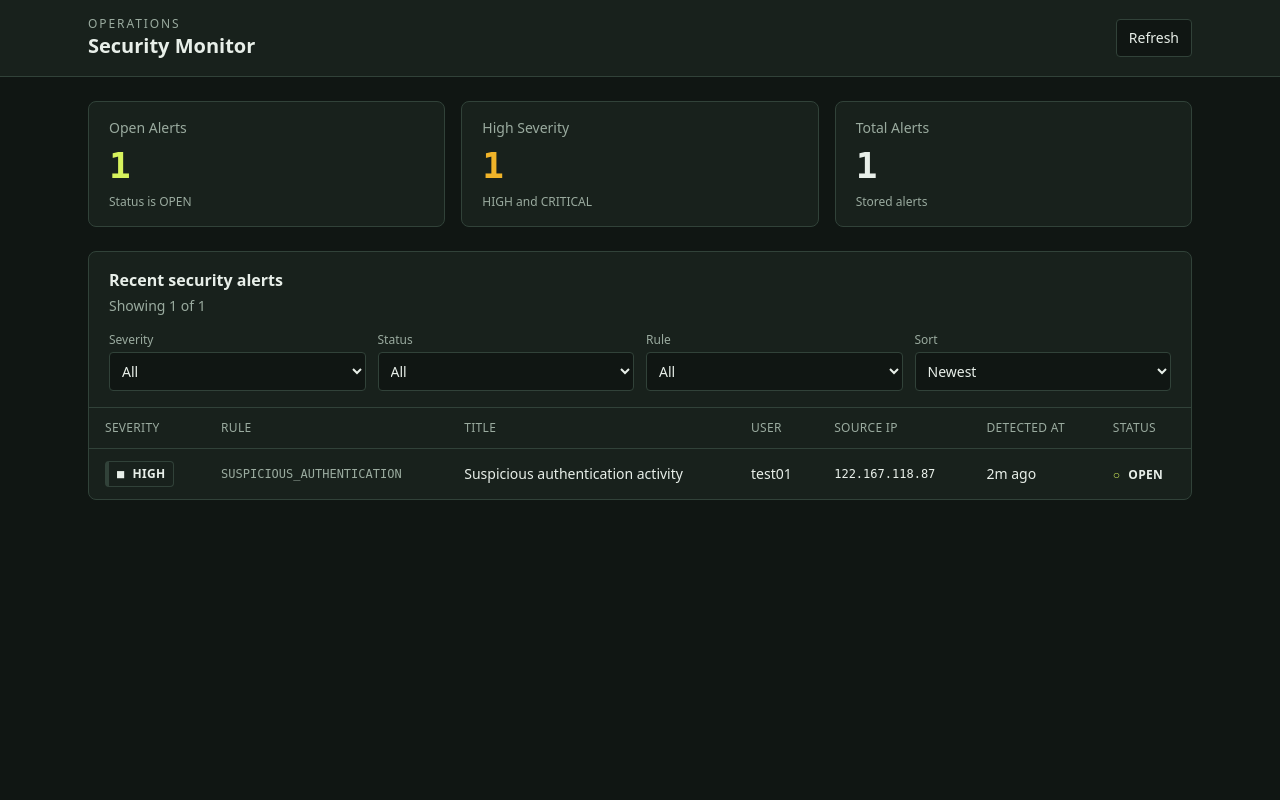
DashboardPage › keeps the last alerts visible when refresh fails
expect the link "Suspicious authentication activity" is shown: met, box [464,464,683,483]
Click the button "Refresh" at (1154,38), box [1116,19,1192,57]
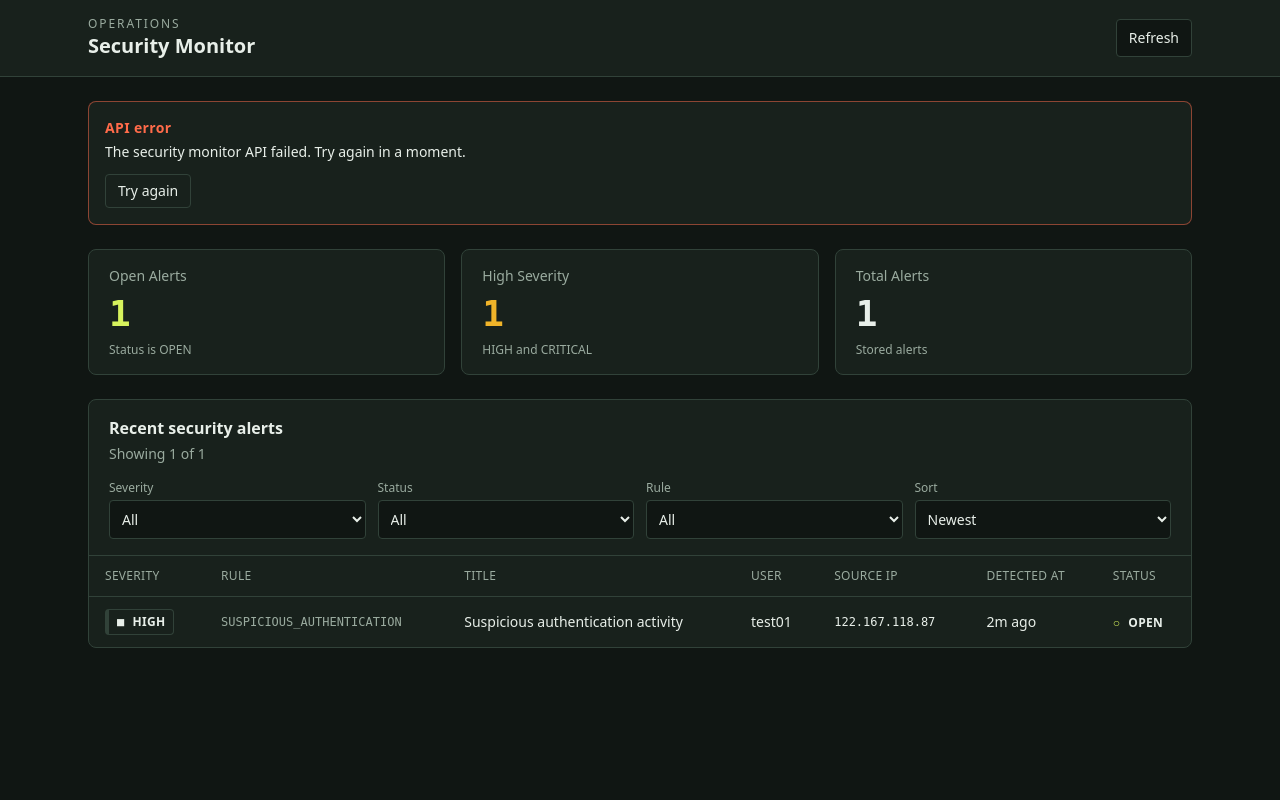
expect the link "Suspicious authentication activity" is shown: met, box [464,612,683,631]
expect the message shows "The security monitor API failed": met, box [105,142,466,161]
